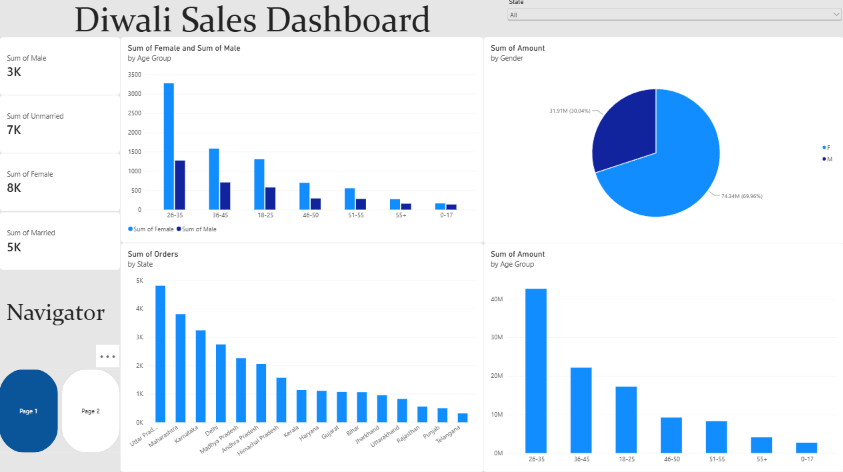

The dashboard page shown, as its layout file describes it:
{"tool":"powerbi","page":{"name":"Page 1","canvas":[1920,1080],"ordinal":0},"visuals":[{"type":"textbox","box":[0,0,1149.3,129.5],"z":0},{"type":"slicer","fields":{"Values":["Diwali Sales Data.State"]},"box":[1150,0,770,129.5],"z":1000},{"type":"cardVisual","fields":{"Data":["Sum(Diwali Sales Data.Male)"]},"box":[0,87.5,275,132.5],"z":2000},{"type":"cardVisual","fields":{"Data":["Sum(Diwali Sales Data.Female)"]},"box":[0,352.5,275,132.5],"z":3000},{"type":"cardVisual","fields":{"Data":["Sum(Diwali Sales Data.Married)"]},"box":[0,485,275,132.5],"z":4000},{"type":"cardVisual","fields":{"Data":["Sum(Diwali Sales Data.Unmarried)"]},"box":[0,220,275,132.5],"z":5000},{"type":"pieChart","fields":{"Category":["Diwali Sales Data.Gender"],"Y":["Sum(Diwali Sales Data.Amount)"]},"box":[1100,87.5,820,470],"z":6000},{"type":"columnChart","fields":{"Category":["Diwali Sales Data.State"],"Y":["Sum(Diwali Sales Data.Orders)"]},"box":[275,557.5,825,522.5],"z":7000},{"type":"clusteredColumnChart","fields":{"Category":["Diwali Sales Data.Age Group"],"Y":["Sum(Diwali Sales Data.Female)","Sum(Diwali Sales Data.Male)"]},"box":[275,87.5,825,467.5],"z":8000},{"type":"columnChart","fields":{"Category":["Diwali Sales Data.Age Group"],"Y":["Sum(Diwali Sales Data.Amount)"]},"box":[1100,557.5,820,522.5],"z":9000},{"type":"textbox","box":[15,682.5,245,75],"z":10000},{"type":"pageNavigator","box":[0,842.5,275,190],"z":11000}]}

Visuals, with their boxes on the page's 1920x1080 design canvas (x1, y1, x2, y2). These are canvas units, not pixel positions in the 843x472 screenshot, which may show the page scaled, cropped or inside an application window:
textbox: left=0, top=0, right=1149, bottom=130
slicer - Diwali Sales Data.State: left=1150, top=0, right=1920, bottom=130
cardVisual - Sum(Diwali Sales Data.Male): left=0, top=88, right=275, bottom=220
cardVisual - Sum(Diwali Sales Data.Female): left=0, top=352, right=275, bottom=485
cardVisual - Sum(Diwali Sales Data.Married): left=0, top=485, right=275, bottom=618
cardVisual - Sum(Diwali Sales Data.Unmarried): left=0, top=220, right=275, bottom=352
pieChart - Diwali Sales Data.Gender x Sum(Diwali Sales Data.Amount): left=1100, top=88, right=1920, bottom=558
columnChart - Diwali Sales Data.State x Sum(Diwali Sales Data.Orders): left=275, top=558, right=1100, bottom=1080
clusteredColumnChart - Diwali Sales Data.Age Group x Sum(Diwali Sales Data.Female): left=275, top=88, right=1100, bottom=555
columnChart - Diwali Sales Data.Age Group x Sum(Diwali Sales Data.Amount): left=1100, top=558, right=1920, bottom=1080
textbox: left=15, top=682, right=260, bottom=758
pageNavigator: left=0, top=842, right=275, bottom=1032
